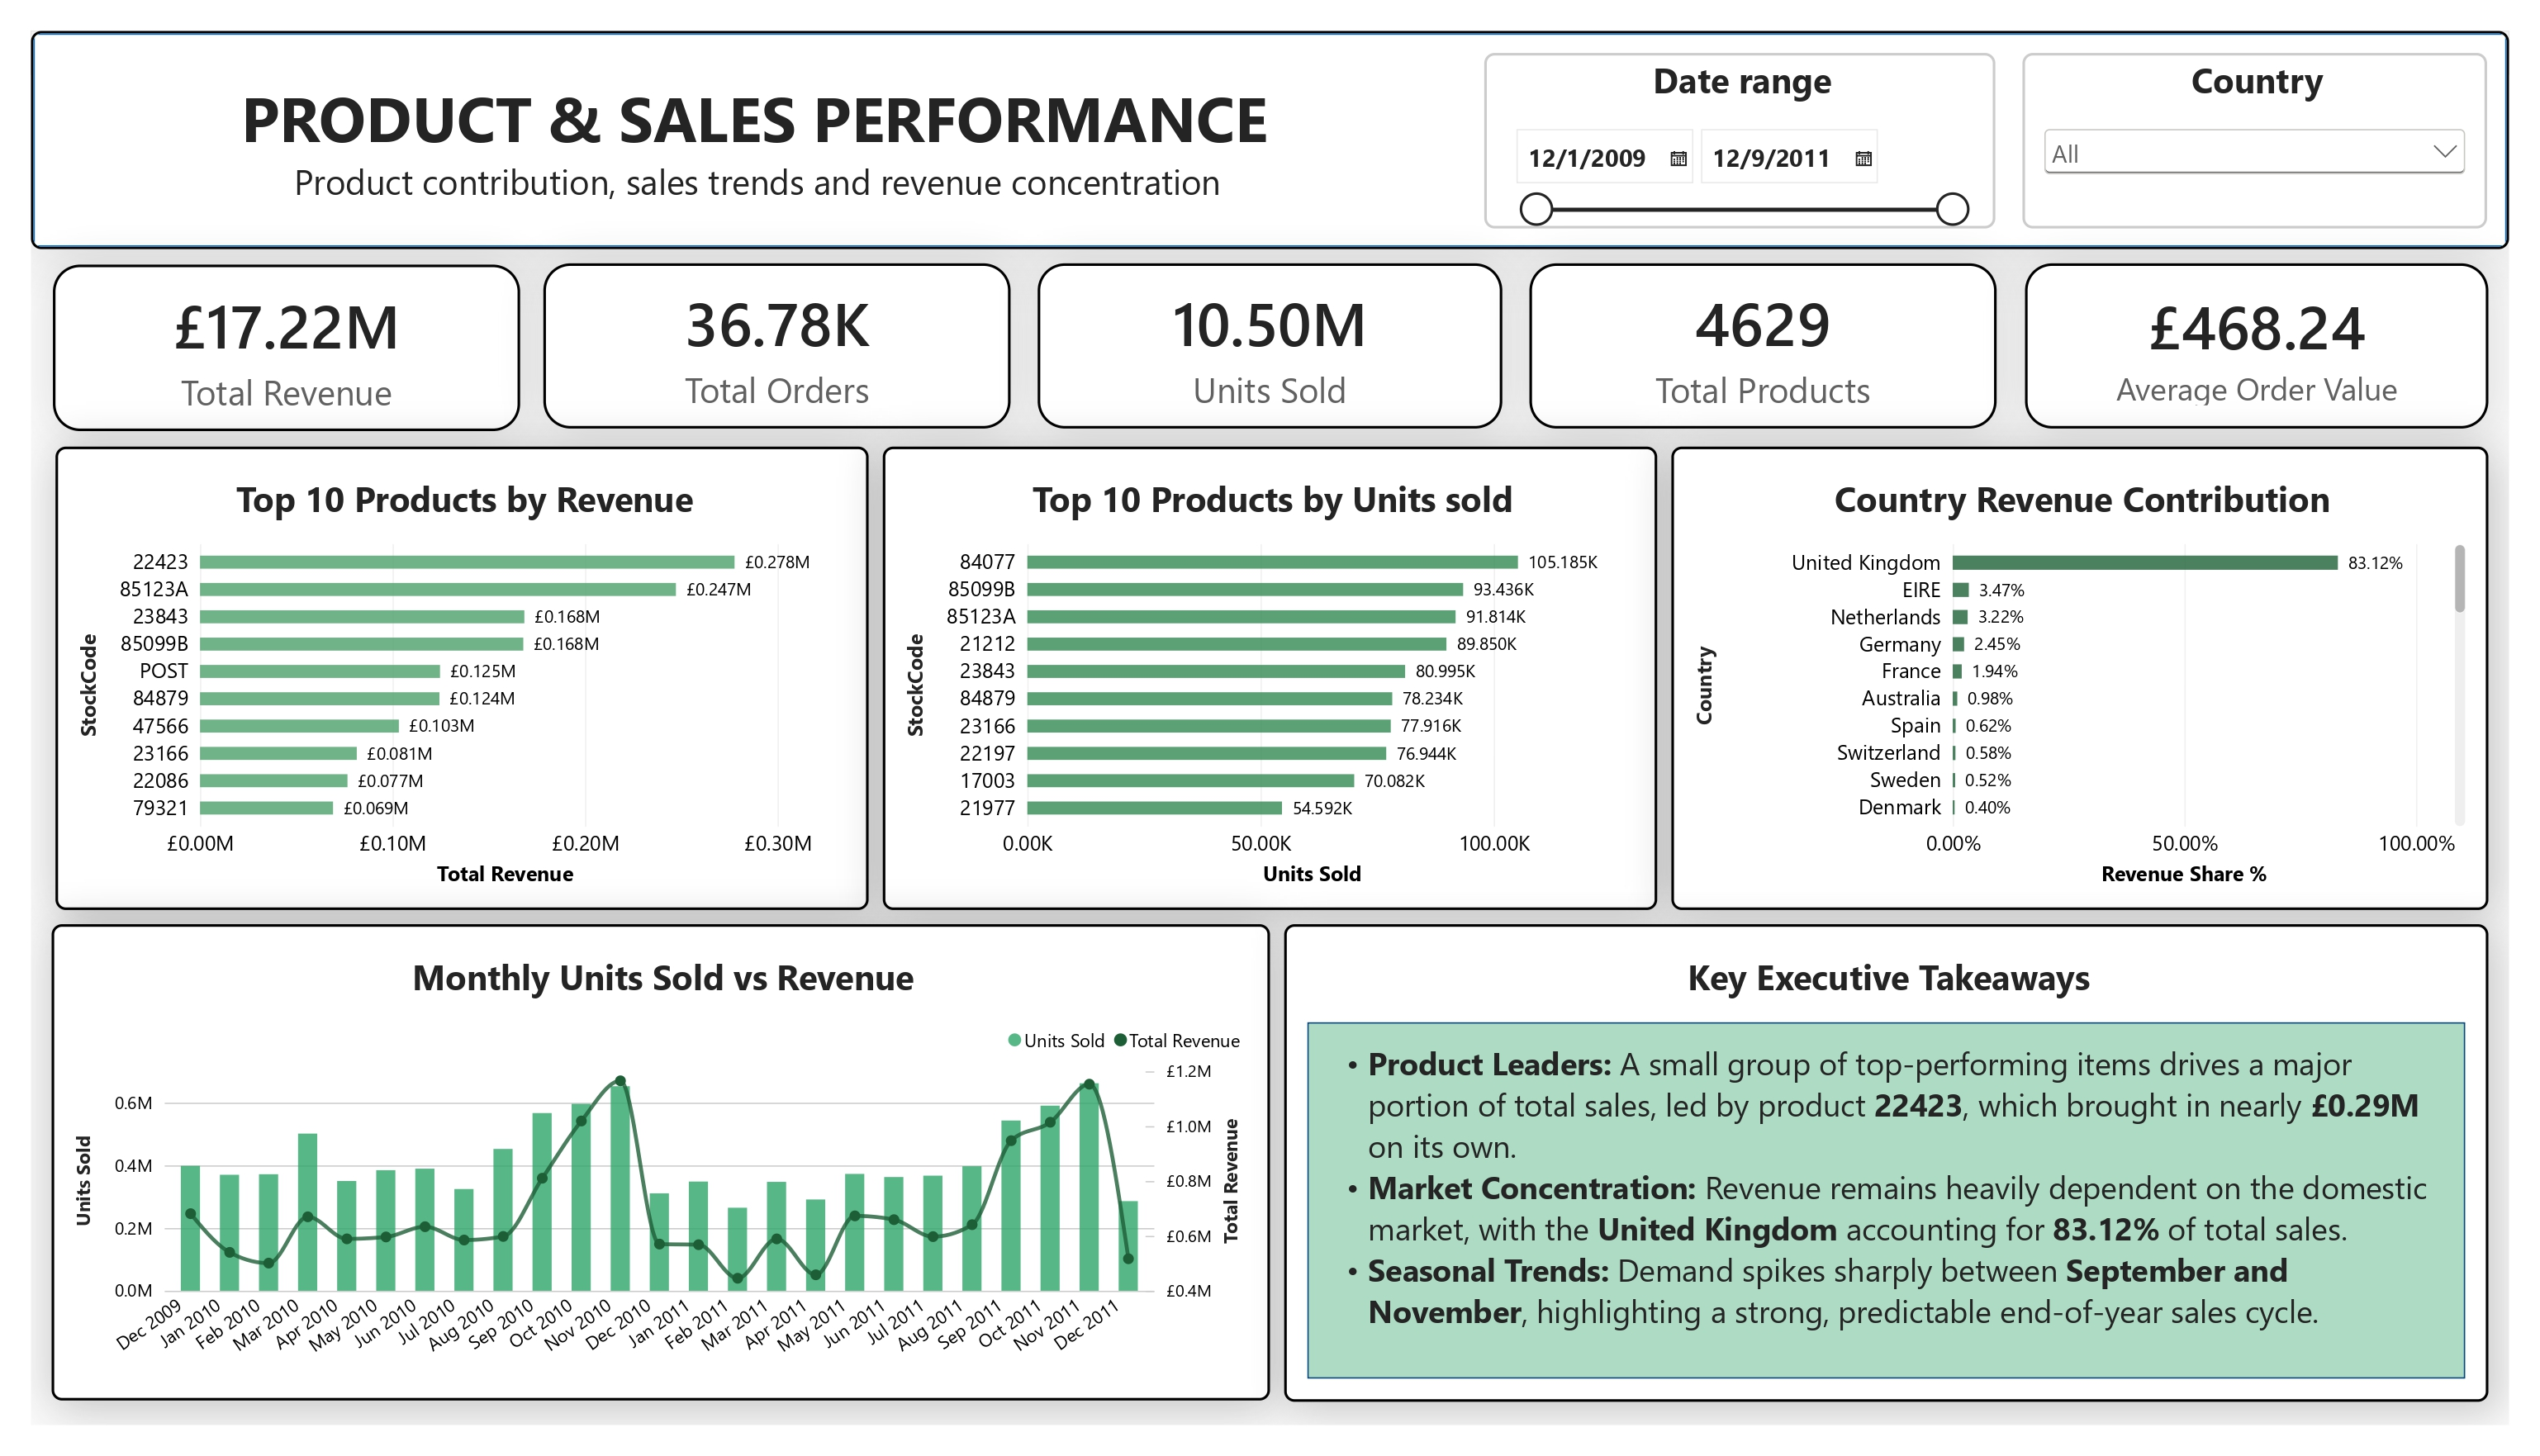

What the dashboard file says about the page in this screenshot:
{"tool":"powerbi","page":{"name":"Product & Sales Performance","canvas":[1920,1080],"ordinal":2},"visuals":[{"type":"shape","box":[0,0,1920,169],"z":0},{"type":"textbox","box":[21.5,34.4,1089.1,101.2],"z":1000},{"type":"card","fields":{"Values":["_Measures.Total Revenue"]},"box":[17.2,180.8,361.6,129.1],"z":2000},{"type":"card","fields":{"Values":["_Measures.Total Orders"]},"box":[396.9,179.7,362,128.7],"z":3000},{"type":"card","fields":{"Values":["_Measures.Units Sold"]},"box":[780.3,179.7,359.3,128.7],"z":4000},{"type":"card","fields":{"Values":["_Measures.Total Product"]},"box":[1161.1,179.7,362,128.7],"z":5000},{"type":"slicer","title":"Date range","fields":{"Values":["online_retail_cleaned csv.InvoiceDate"]},"box":[1125.7,17.2,396.1,135.6],"z":6000},{"type":"slicer","title":"Country ","fields":{"Values":["online_retail_cleaned csv.Country"]},"box":[1543.5,17,359.3,136.1],"z":7000},{"type":"card","fields":{"Values":["_Measures.Average Order Value"]},"box":[1544.6,179.7,359.3,128.7],"z":8000},{"type":"clusteredBarChart","title":"Top 10 Products by Revenue ","fields":{"Category":["online_retail_cleaned csv.StockCode"],"Y":["_Measures.Total Revenue"]},"box":[18.8,321.8,630.2,359.3],"z":9000},{"type":"clusteredBarChart","title":"Top 10 Products by Units sold ","fields":{"Category":["online_retail_cleaned csv.StockCode"],"Y":["_Measures.Units Sold"]},"box":[659.7,321.8,600.7,359.3],"z":10000},{"type":"clusteredBarChart","title":"Country Revenue Contribution ","fields":{"Category":["online_retail_cleaned csv.Country"],"Y":["_Measures.Revenue Share %"]},"box":[1271.1,321.8,632.8,359.3],"z":11000},{"type":"lineClusteredColumnComboChart","title":"Monthly Units Sold vs Revenue ","fields":{"Category":["online_retail_cleaned csv.Month Year"],"Y":["_Measures.Units Sold"],"Y2":["_Measures.Total Revenue"]},"box":[16.1,691.8,943.9,369],"z":12000},{"type":"shape","title":"Key Executive Takeaways ","box":[970.7,691.8,933.2,370.1],"z":13000},{"type":"textbox","box":[1000.2,783,863.5,244],"z":14000}]}

Visuals, with their boxes on the page's 1920x1080 design canvas (x1, y1, x2, y2). These are canvas units, not pixel positions in the 2540x1456 screenshot, which may show the page scaled, cropped or inside an application window:
shape: {"x1": 0, "y1": 0, "x2": 1920, "y2": 169}
textbox: {"x1": 22, "y1": 34, "x2": 1111, "y2": 136}
card - _Measures.Total Revenue: {"x1": 17, "y1": 181, "x2": 379, "y2": 310}
card - _Measures.Total Orders: {"x1": 397, "y1": 180, "x2": 759, "y2": 308}
card - _Measures.Units Sold: {"x1": 780, "y1": 180, "x2": 1140, "y2": 308}
card - _Measures.Total Product: {"x1": 1161, "y1": 180, "x2": 1523, "y2": 308}
"Date range" slicer: {"x1": 1126, "y1": 17, "x2": 1522, "y2": 153}
"Country " slicer: {"x1": 1544, "y1": 17, "x2": 1903, "y2": 153}
card - _Measures.Average Order Value: {"x1": 1545, "y1": 180, "x2": 1904, "y2": 308}
"Top 10 Products by Revenue " clusteredBarChart: {"x1": 19, "y1": 322, "x2": 649, "y2": 681}
"Top 10 Products by Units sold " clusteredBarChart: {"x1": 660, "y1": 322, "x2": 1260, "y2": 681}
"Country Revenue Contribution " clusteredBarChart: {"x1": 1271, "y1": 322, "x2": 1904, "y2": 681}
"Monthly Units Sold vs Revenue " lineClusteredColumnComboChart: {"x1": 16, "y1": 692, "x2": 960, "y2": 1061}
"Key Executive Takeaways " shape: {"x1": 971, "y1": 692, "x2": 1904, "y2": 1062}
textbox: {"x1": 1000, "y1": 783, "x2": 1864, "y2": 1027}
